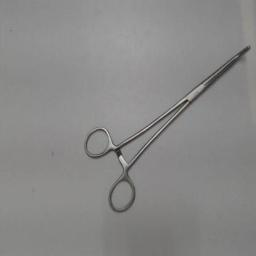Lahey Forceps: (82, 38, 254, 216)
